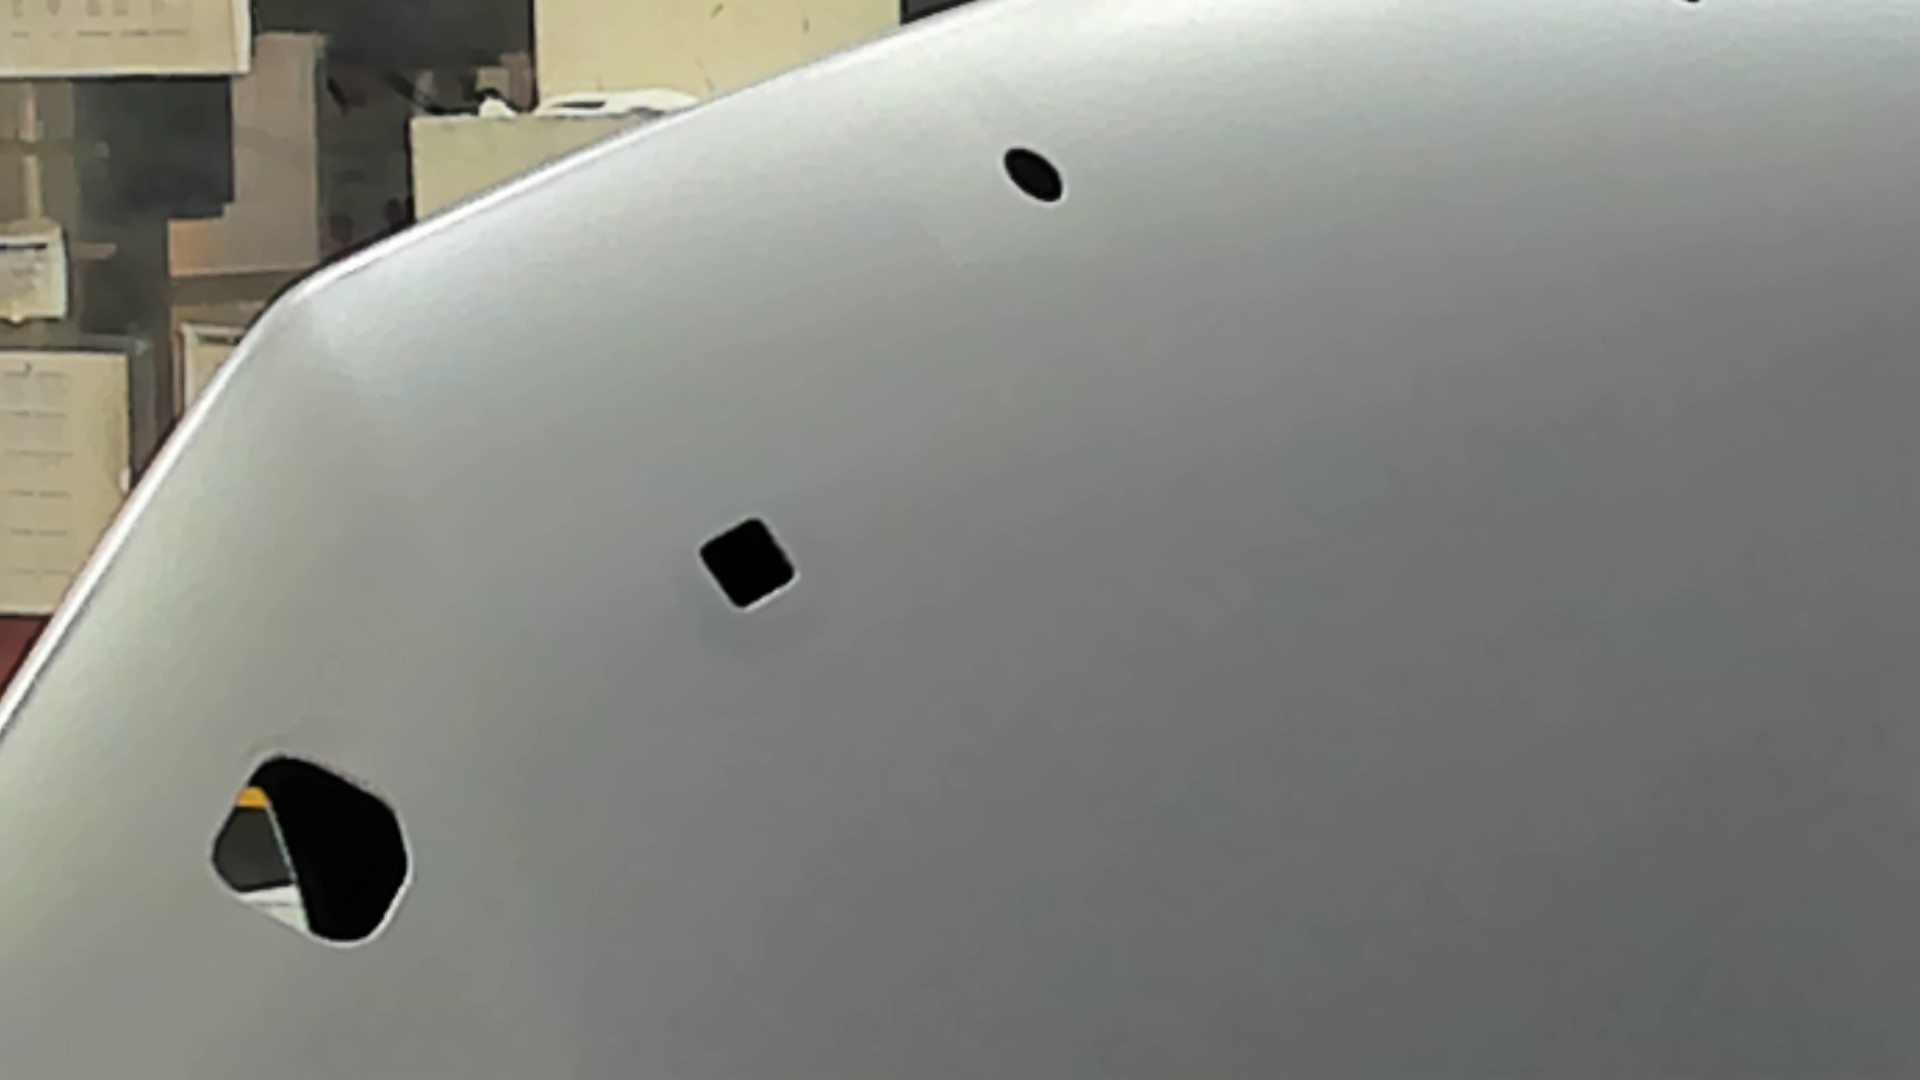chico: (1000, 142, 1069, 208)
grande: (207, 746, 415, 953)
mediano: (698, 516, 802, 615)
